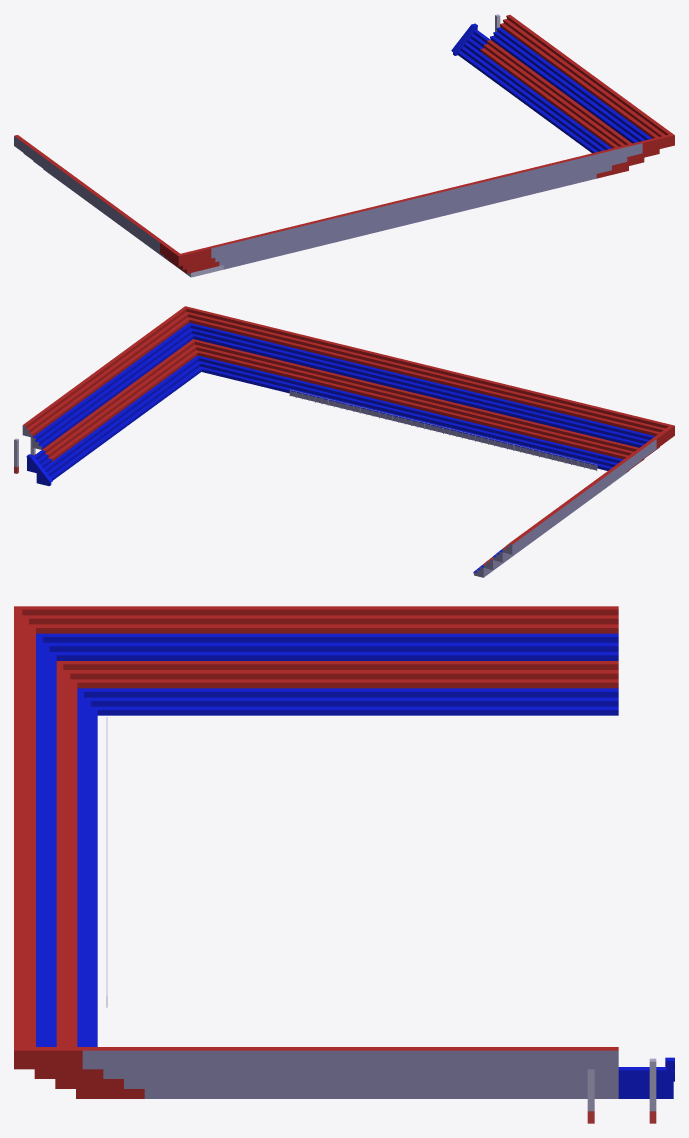
The model's file is cancha.glb.
3 views of the same model, one above another, from view 1: azimuth 30°, elevation 25°; view 2: azimuth 150°, elevation 25°; view 3: azimuth 270°, elevation 25° (orthographic). The views are drawn at different scales.
Parts seen in each view (by area): view 1: mergedBlocks(Clone); view 2: mergedBlocks(Clone); view 3: mergedBlocks(Clone).
Boxes of the visible parts, x1,y1,x2,y2 form: mergedBlocks(Clone): (14,14,674,277); mergedBlocks(Clone): (14,306,674,577); mergedBlocks(Clone): (14,606,674,1123).
Bounding box in the file's own units: 76.5 × 6 × 48.1.
1 material, 1 textured.
